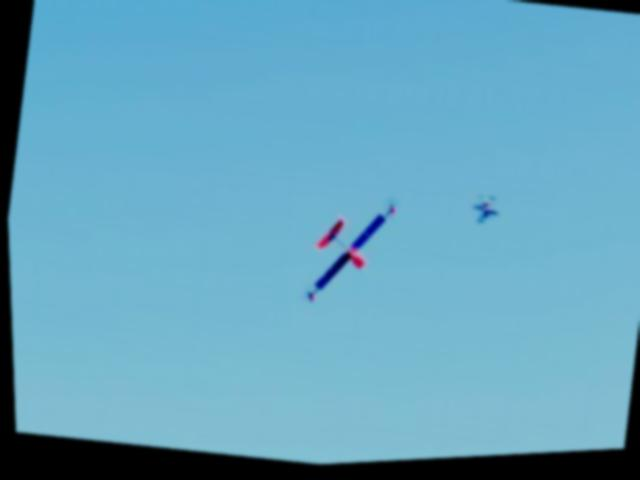uav: (284, 183, 407, 322)
